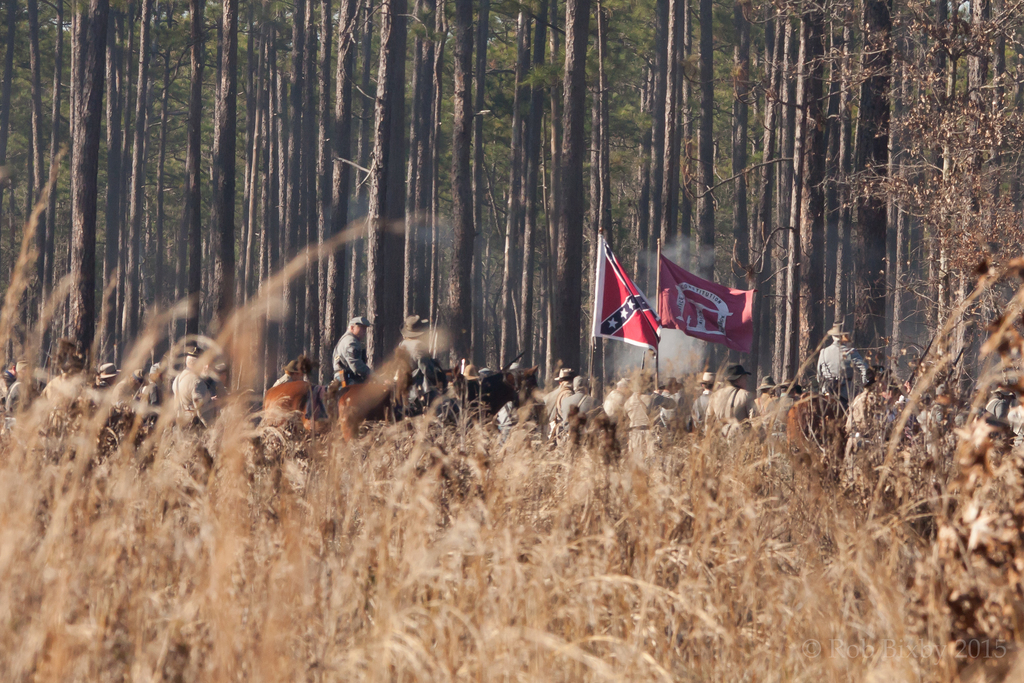Tree: (0, 0, 1023, 429)
